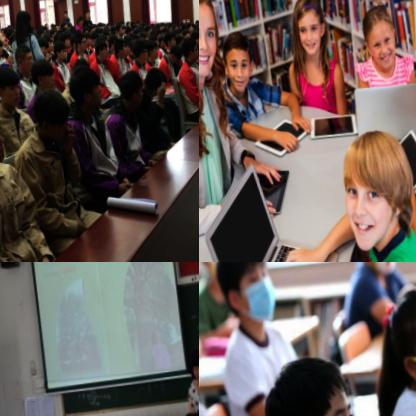head: (331, 128, 416, 262), (258, 351, 366, 416), (213, 262, 276, 332), (382, 281, 416, 399), (358, 0, 404, 75), (285, 0, 334, 60), (27, 84, 71, 144), (219, 28, 254, 94), (68, 65, 105, 119), (199, 0, 222, 80), (29, 56, 59, 95), (117, 71, 144, 113), (140, 63, 166, 105), (0, 66, 24, 110), (9, 44, 37, 80), (129, 39, 150, 69), (13, 9, 33, 37), (179, 38, 199, 65), (184, 347, 199, 383), (53, 42, 69, 65), (166, 45, 182, 68), (93, 41, 109, 63), (35, 36, 49, 57), (146, 40, 159, 62), (75, 34, 88, 54), (112, 40, 126, 58), (164, 32, 176, 49), (44, 35, 54, 54), (122, 41, 131, 57), (84, 9, 93, 22), (195, 40, 199, 66), (60, 9, 68, 21), (77, 17, 83, 27), (0, 38, 3, 54)
